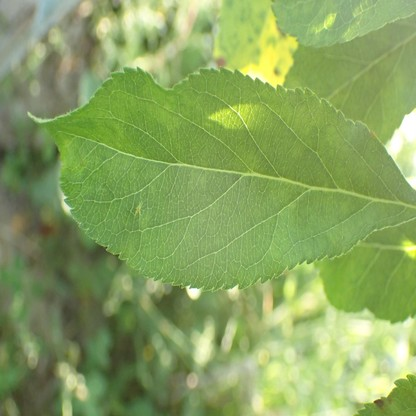rust: (136, 202, 142, 214)
